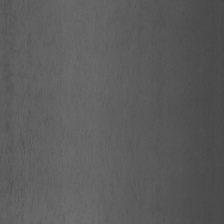silk_spot: (84, 31, 159, 153)
